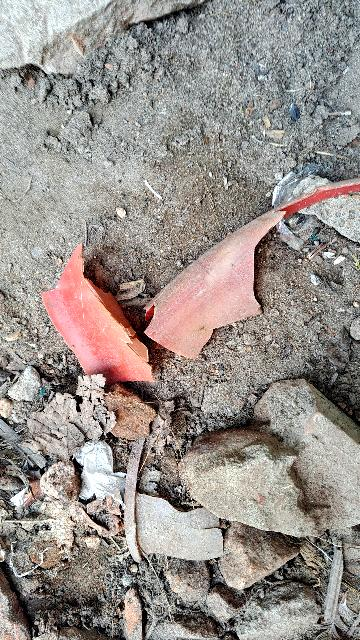hardplastic: (134, 194, 340, 368), (20, 237, 158, 419)
